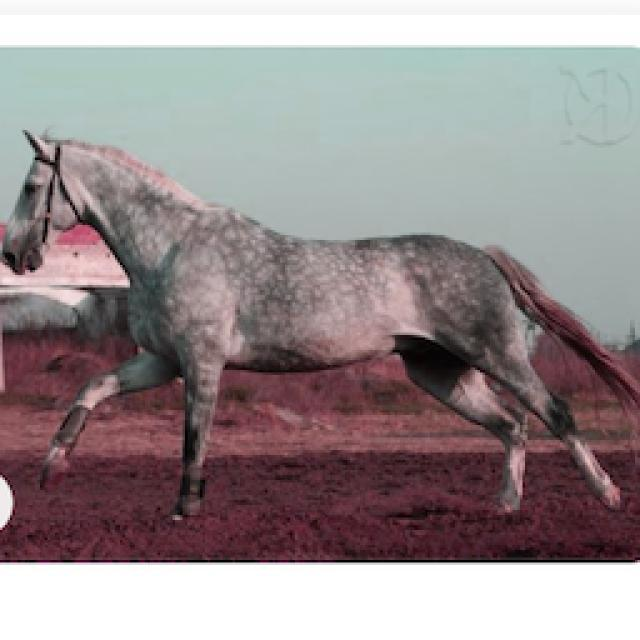Horse: (2, 122, 640, 526)
